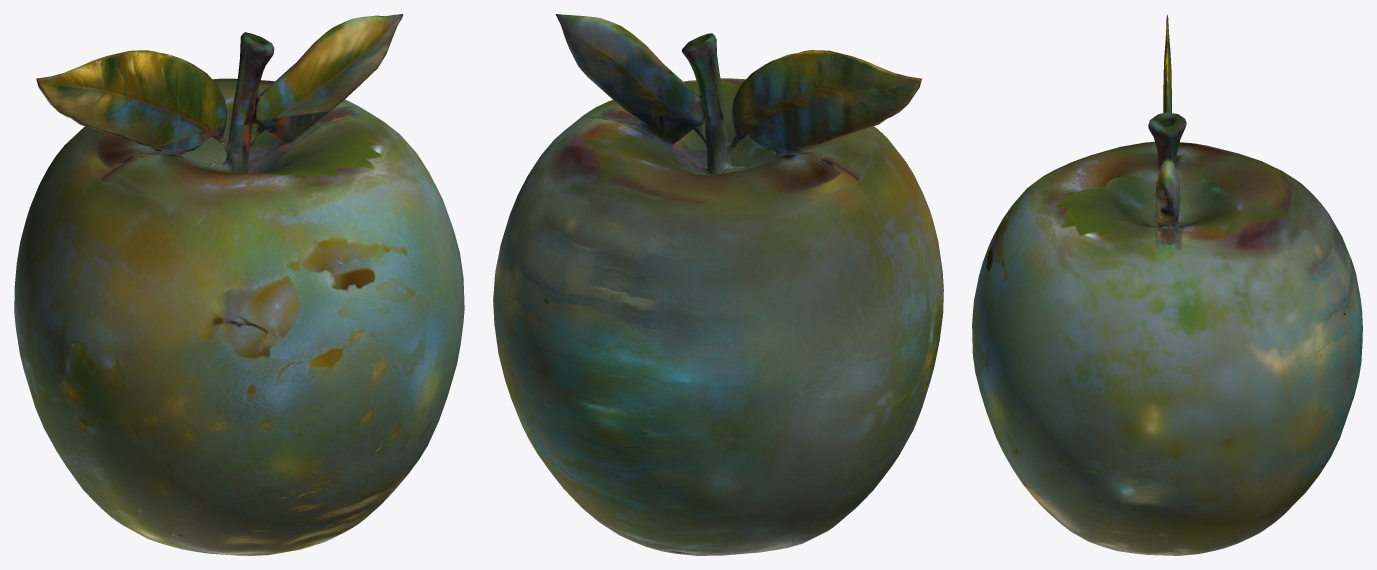
3 renders of one model, left to right at view 1: azimuth 30°, elevation 25°; view 2: azimuth 150°, elevation 25°; view 3: azimuth 270°, elevation 25°, orthographic. The views are drawn at different scales.
Parts seen in each view (by area): view 1: Mesh1.0; view 2: Mesh1.0; view 3: Mesh1.0.
Part boxes in pixels (bbox=[...]): Mesh1.0: bbox=[14, 14, 464, 555]; Mesh1.0: bbox=[493, 14, 943, 555]; Mesh1.0: bbox=[972, 15, 1362, 555].
Size of the model in its own units: 167 by 199 by 166.
1 material, 1 textured.
